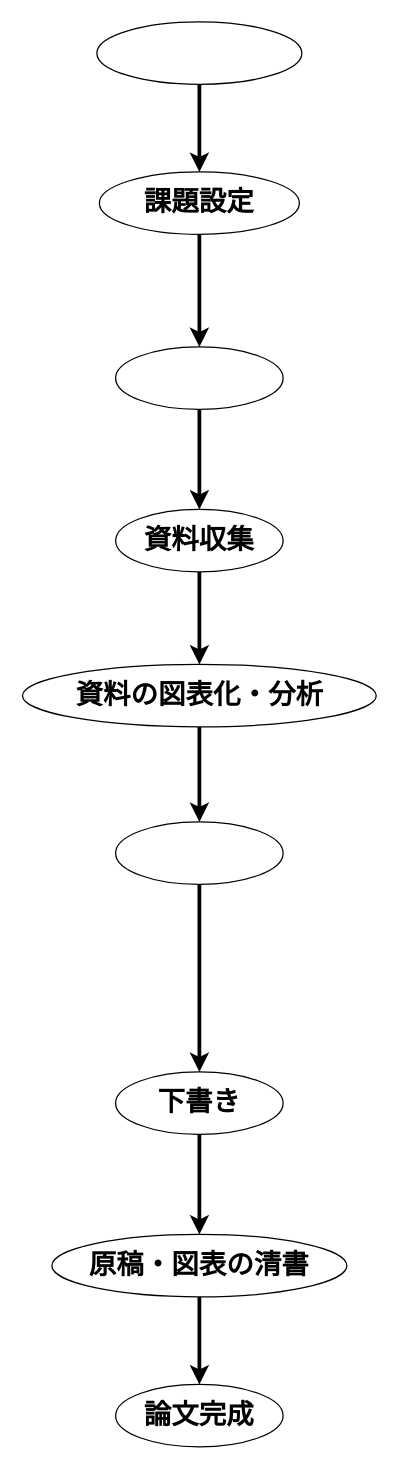
Image size: 398x1469. Some labels were removed from this diagram. The shapes that lost their labels are listed below. From the top down, each one's box as (x1, y1, x2, y2) in pixels, then its label:
(96, 21, 302, 84): 目的意識
(114, 346, 283, 409): 方法決定
(114, 821, 283, 884): 解釈
